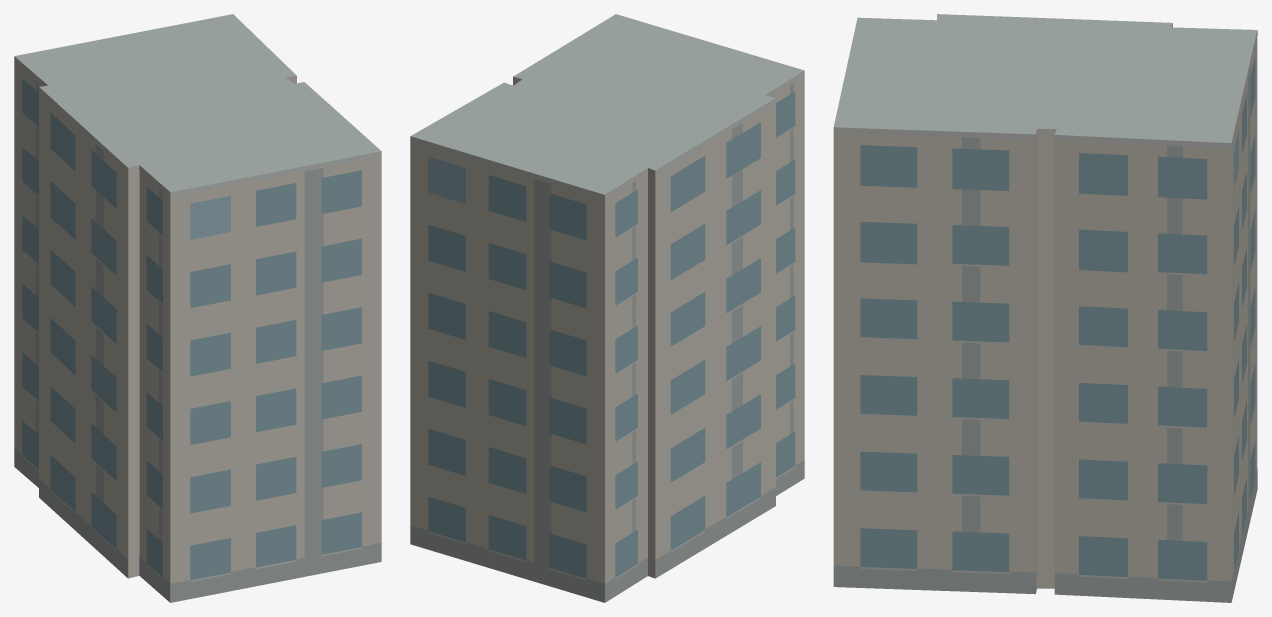
Rendered from survey-upis-32872366.glb.
3 views of the same model, side by side, from view 1: azimuth 30°, elevation 25°; view 2: azimuth 150°, elevation 25°; view 3: azimuth 270°, elevation 25° (orthographic). The views are drawn at different scales.
Visible parts, largest first — view 1: survey-upis-32872366.tmp; view 2: survey-upis-32872366.tmp; view 3: survey-upis-32872366.tmp.
Part boxes in pixels (x1,y1,x2,y2): survey-upis-32872366.tmp: (14,14,381,602); survey-upis-32872366.tmp: (410,14,804,602); survey-upis-32872366.tmp: (833,14,1257,602).
Size of the model in its own units: 11.61 by 19.25 by 16.09.
